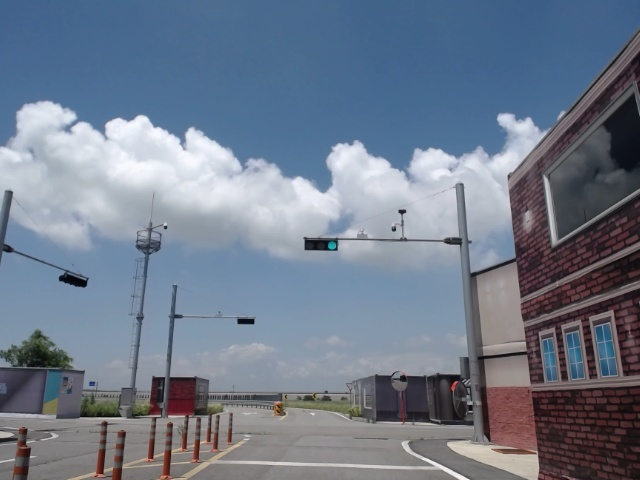green_3: (305, 239, 337, 250)
